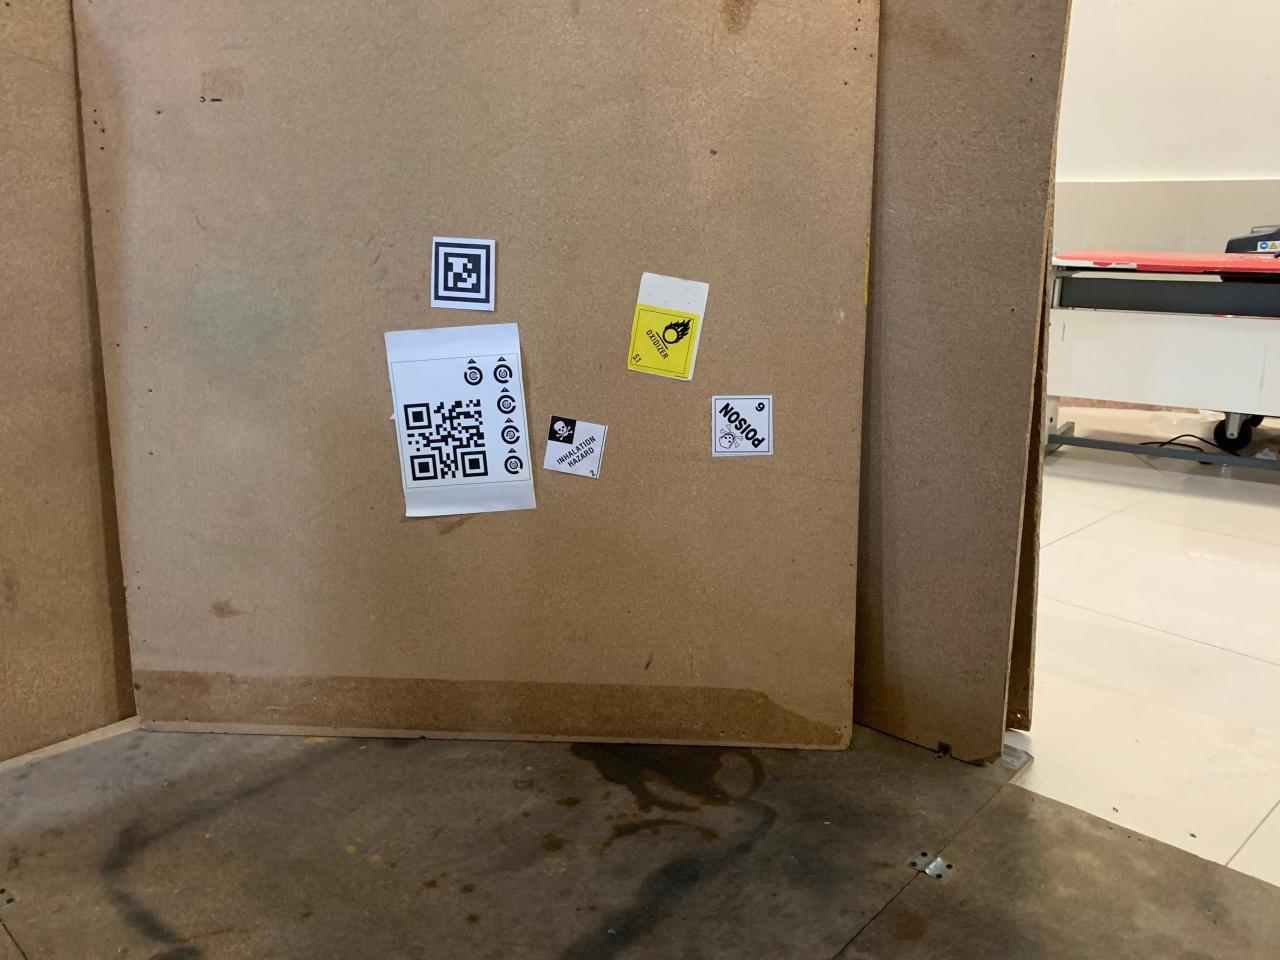oxidizer: (628, 302, 703, 379)
poison: (543, 416, 610, 480), (713, 396, 772, 455)
